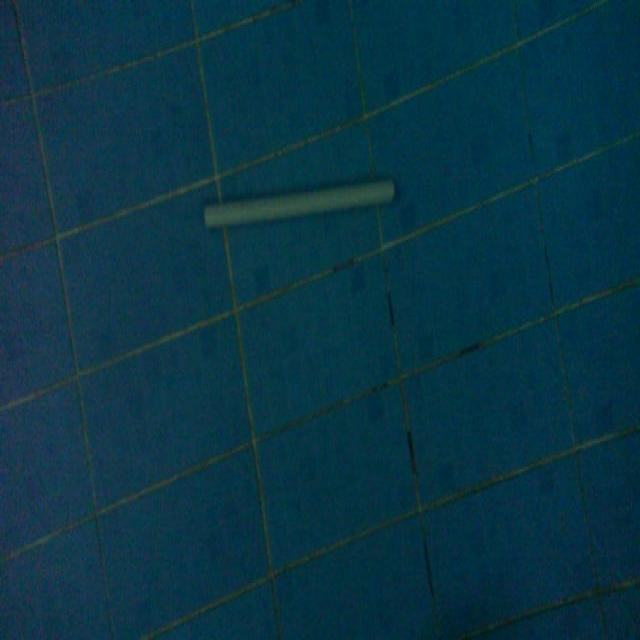Cube: (201, 172, 397, 233)
